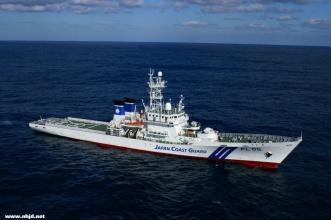warship: (30, 71, 309, 165)
